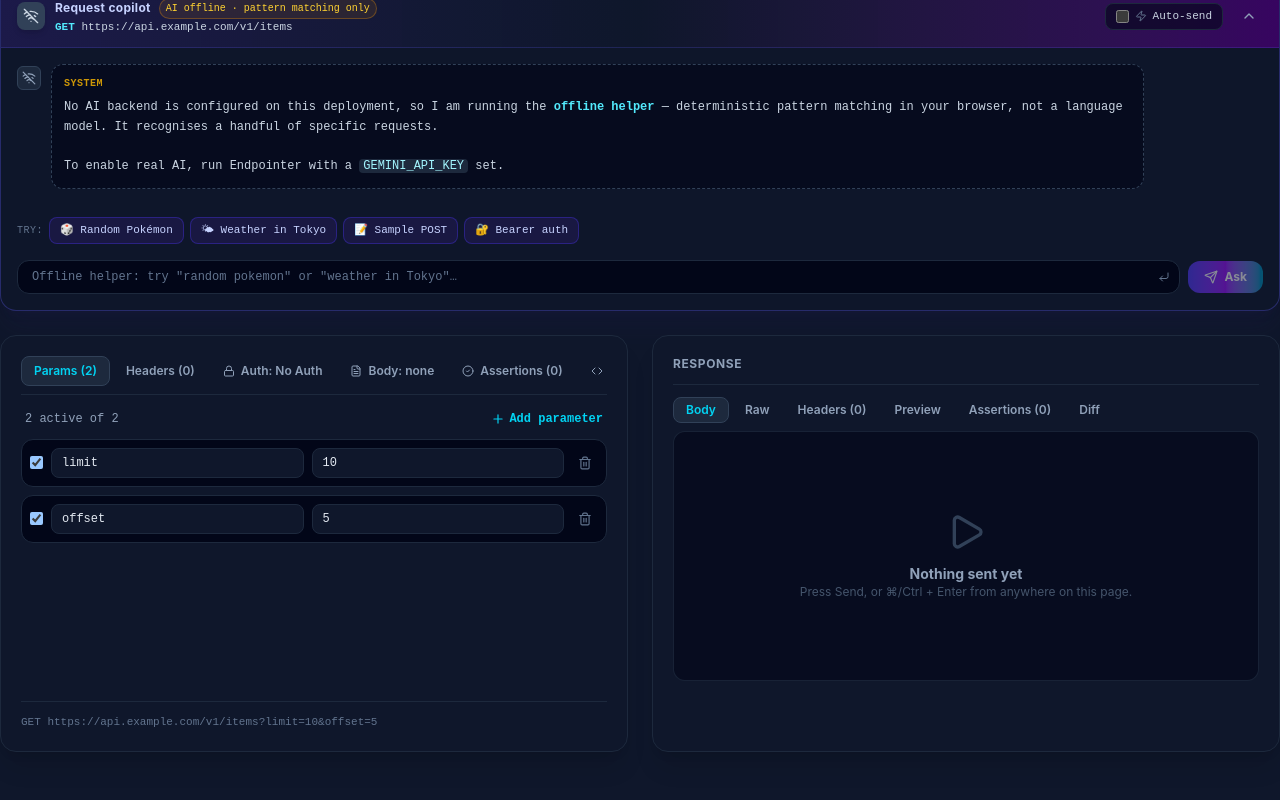
Test case: Playground URL and params stay in sync › removes a parameter from the URL when its row is unticked
The width and height of the screenshot is (1280, 800).
(page scrolled)
Step 1. Click the checkbox named "Include offset" → (36, 519), box [30,512,43,526]
(page scrolled)
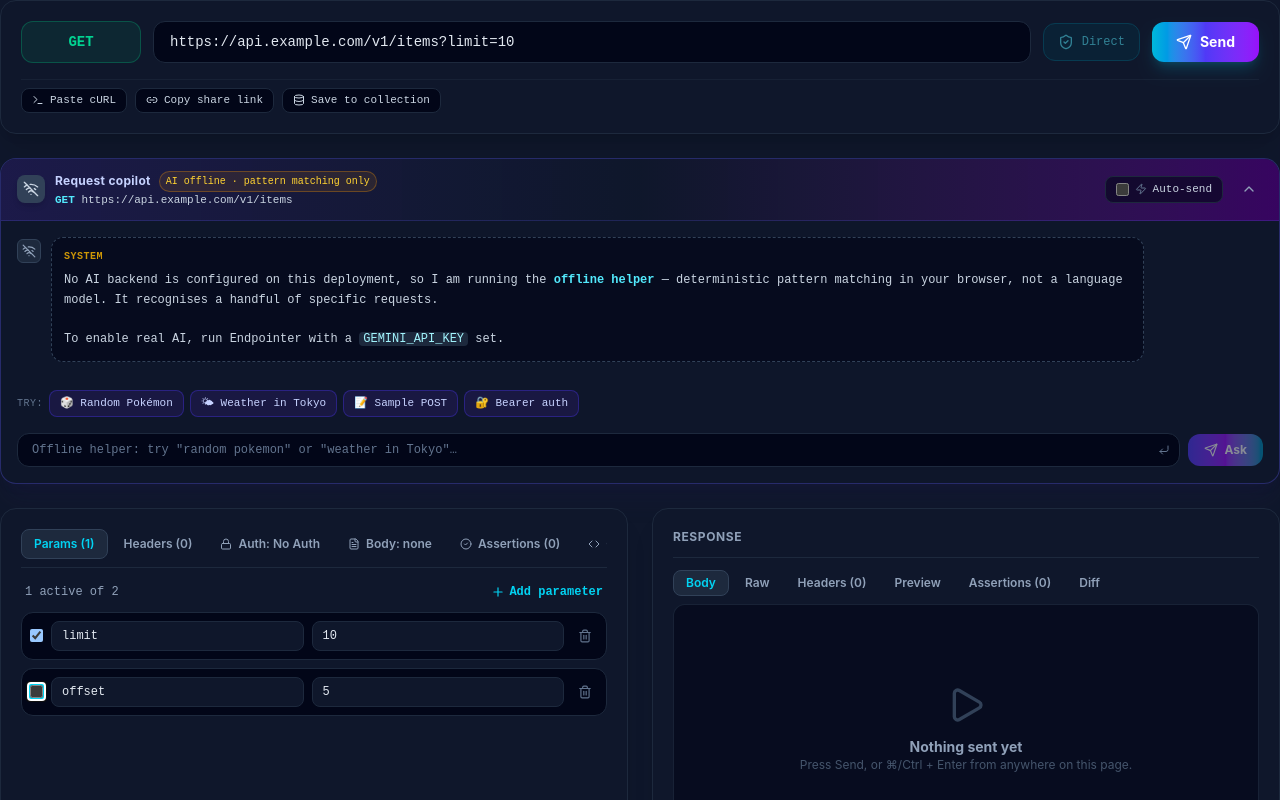
Check: the field named "Request URL" holds "https://api.example.com/v1/items?limit=10", box [153,21,1031,63]
